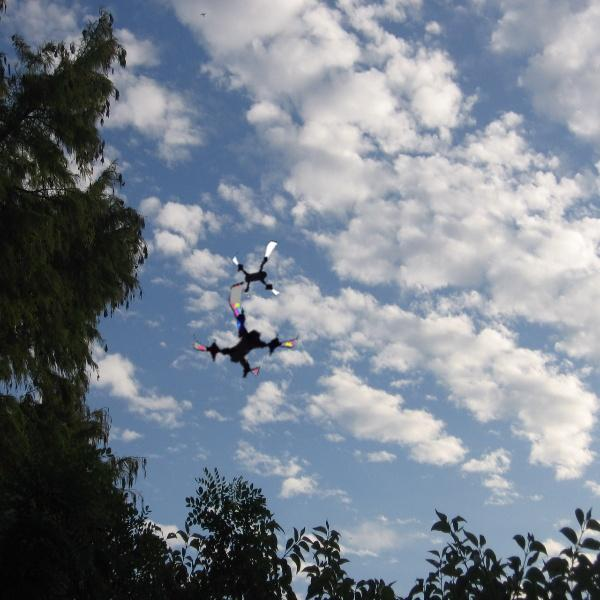drone: (195, 274, 306, 385), (229, 237, 296, 304)
